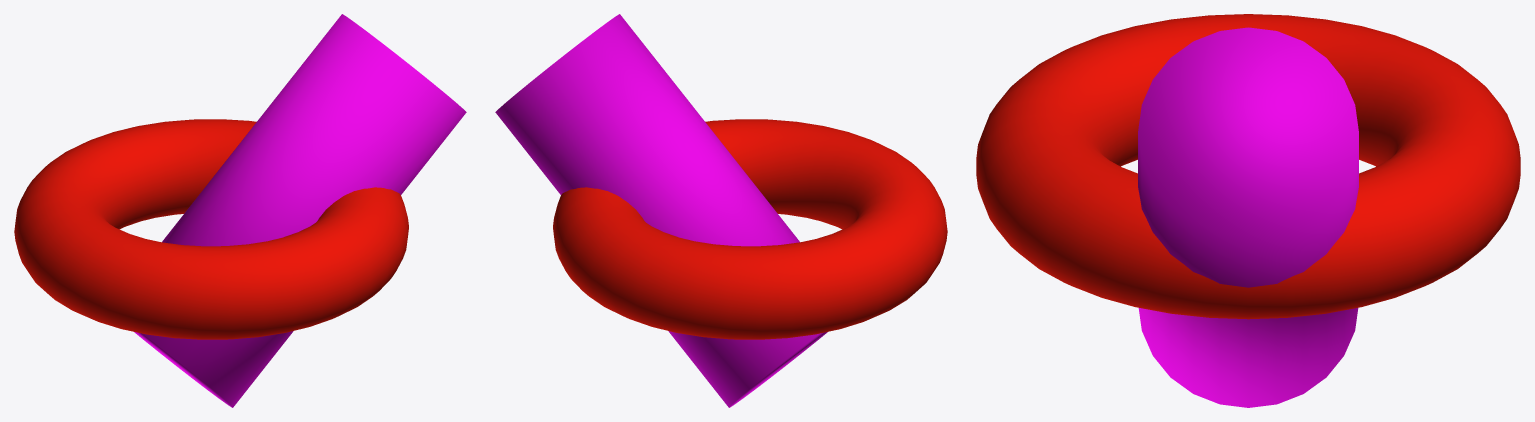
File: torusModel.glb
3 views of the same model, side by side, from view 1: azimuth 30°, elevation 25°; view 2: azimuth 150°, elevation 25°; view 3: azimuth 270°, elevation 25° (orthographic). The views are drawn at different scales.
Parts seen in each view (by area): view 1: Torus.002, Cylinder; view 2: Torus.002, Cylinder; view 3: Torus.002, Cylinder.
Boxes of the visible parts, bbox=[...] form: Torus.002: bbox=[14, 119, 408, 339]; Cylinder: bbox=[134, 14, 466, 407]; Torus.002: bbox=[553, 119, 947, 339]; Cylinder: bbox=[495, 14, 827, 407]; Torus.002: bbox=[976, 14, 1520, 319]; Cylinder: bbox=[1138, 27, 1358, 407].
Bounding box in the file's own units: 1.25 × 0.992 × 1.03.
